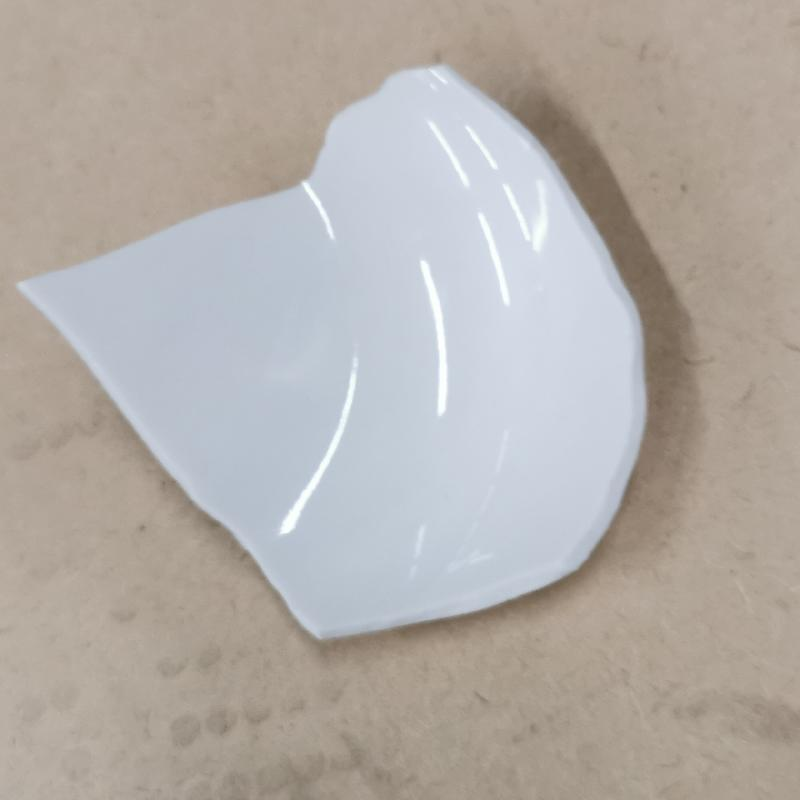ceram: (13, 62, 657, 664)
